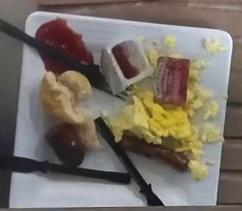biscuit: (41, 71, 99, 149)
sausage: (119, 131, 189, 171), (45, 123, 85, 167)
scrambled_eggs: (106, 85, 206, 178)
